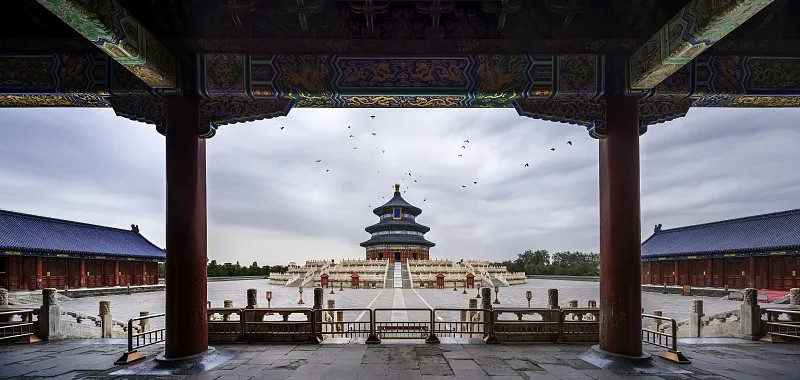Heaven: (359, 184, 436, 260)
